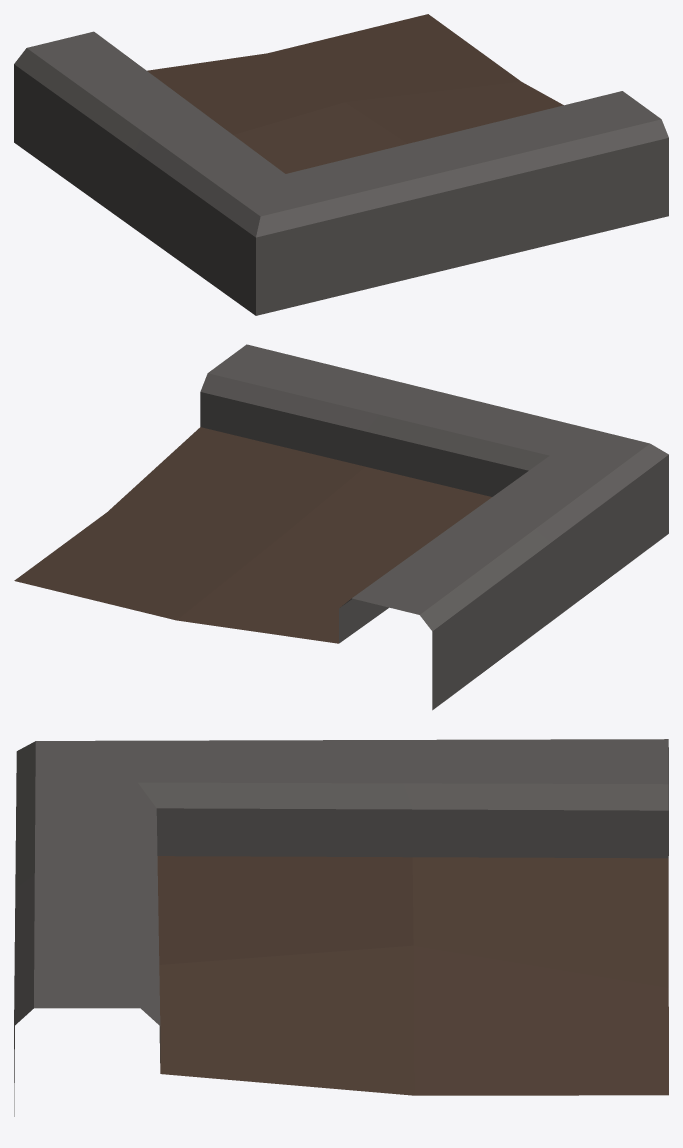
File: Garden Ground Turn 1.fbx
3 renders of one model, top to bottom at view 1: azimuth 30°, elevation 25°; view 2: azimuth 150°, elevation 25°; view 3: azimuth 270°, elevation 25°, orthographic. The views are drawn at different scales.
Parts seen in each view (by area): view 1: Garden Ground Turn 1.001; view 2: Garden Ground Turn 1.001; view 3: Garden Ground Turn 1.001.
Part boxes in pixels (bbox=[...]): Garden Ground Turn 1.001: bbox=[14, 14, 668, 315]; Garden Ground Turn 1.001: bbox=[14, 344, 668, 710]; Garden Ground Turn 1.001: bbox=[14, 739, 668, 1116].
Bounding box in the file's own units: 110 × 110 × 23.12.
